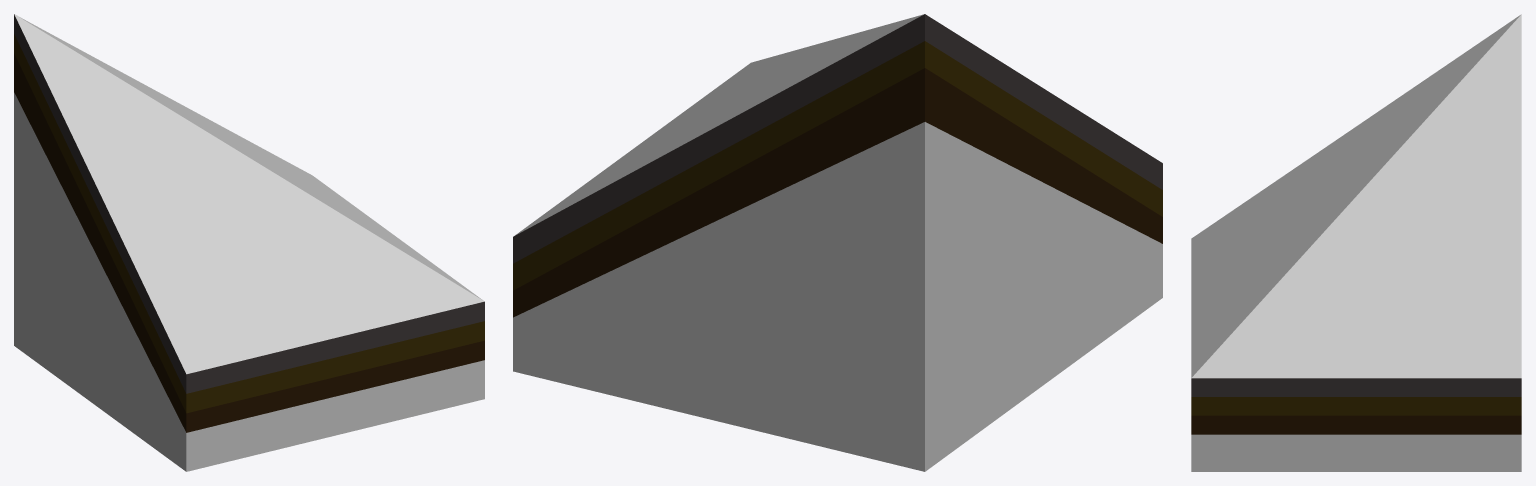
The model's file is model_loc_1640_g.obj.
3 renders of one model, left to right at view 1: azimuth 30°, elevation 25°; view 2: azimuth 150°, elevation 25°; view 3: azimuth 270°, elevation 25°, orthographic. The views are drawn at different scales.
Visible parts, largest first — view 1: 620; view 2: 620; view 3: 620.
Boxes of the visible parts, x1,y1,x2,y2 form: 620: (14, 14, 484, 471); 620: (513, 14, 1162, 471); 620: (1191, 14, 1521, 471).
Size of the model in its own units: 128 by 136 by 128.
